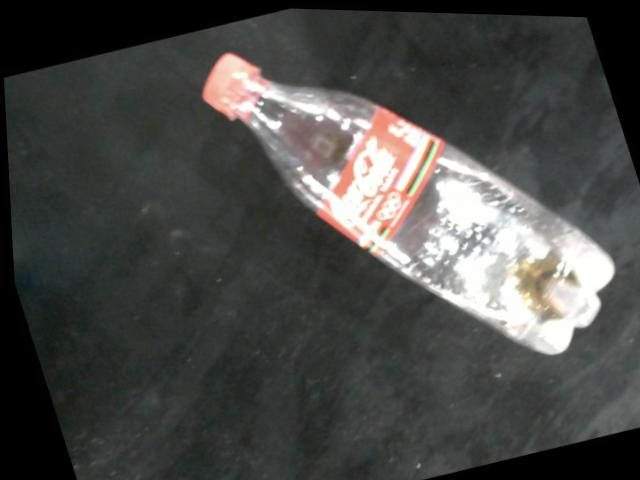bottle: (200, 50, 613, 352)
